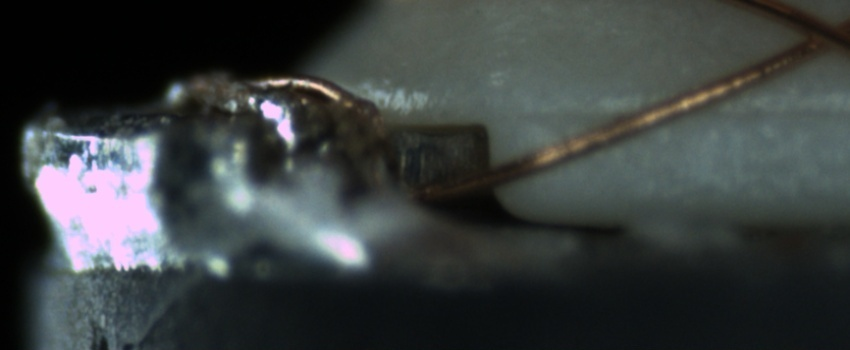CL: (775, 4, 849, 63)
DL: (529, 81, 850, 144)
TE: (238, 68, 369, 124)
